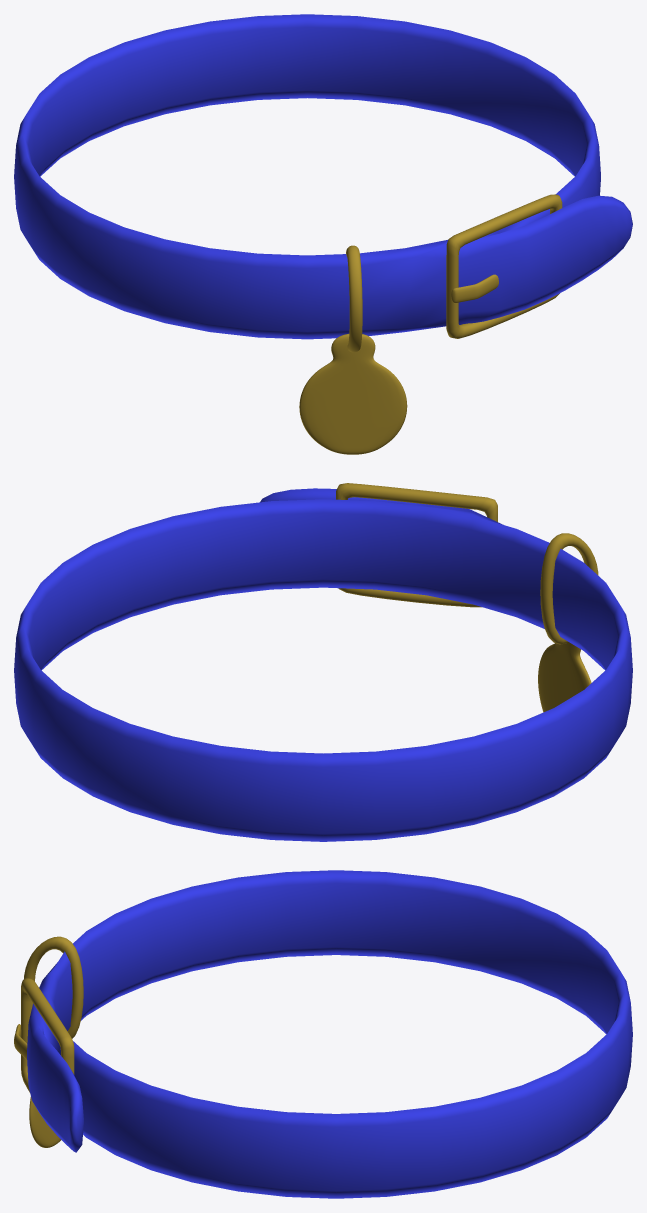
Rendered from Collar.fbx.
3 renders of one model, top to bottom at view 1: azimuth 30°, elevation 25°; view 2: azimuth 150°, elevation 25°; view 3: azimuth 270°, elevation 25°, orthographic. The views are drawn at different scales.
Visible parts, largest first — view 1: Cylinder001, Cylinder003, Box001, Cylinder002, Box002; view 2: Cylinder001, Box001, Cylinder003, Cylinder002; view 3: Cylinder001, Box001, Cylinder002, Cylinder003.
Boxes of the visible parts, box(x1,y1,x2,y2) form: Cylinder001: box(14, 14, 632, 339); Cylinder003: box(299, 333, 407, 454); Box001: box(446, 194, 562, 338); Cylinder002: box(346, 245, 362, 352); Box002: box(451, 274, 498, 303); Cylinder001: box(14, 488, 632, 841); Box001: box(336, 483, 497, 607); Cylinder003: box(538, 642, 591, 712); Cylinder002: box(540, 533, 598, 644); Cylinder001: box(27, 870, 632, 1198); Box001: box(21, 977, 74, 1092); Cylinder002: box(24, 936, 83, 1038); Cylinder003: box(29, 1097, 60, 1147).
Size of the model in its own units: 39.88 by 41.6 by 15.47.
